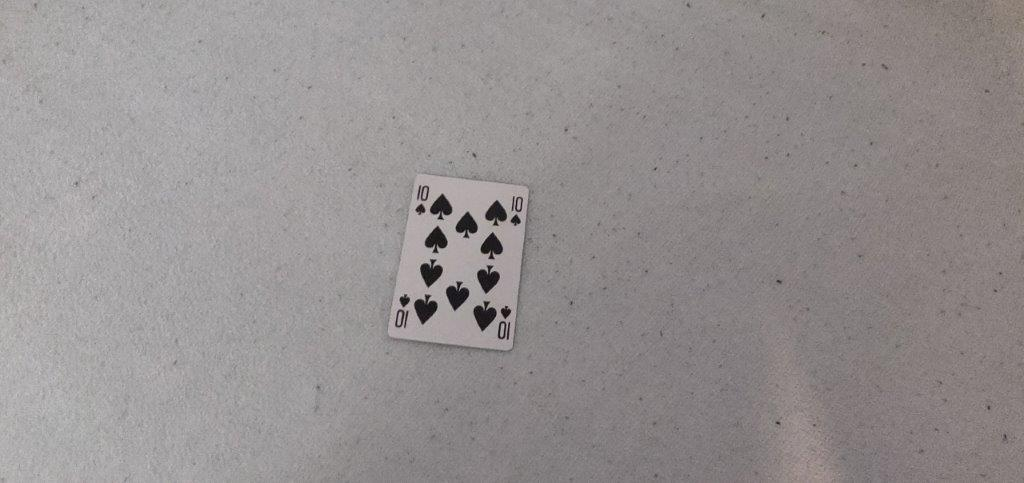10S: (507, 193, 527, 229), (411, 182, 431, 216)
